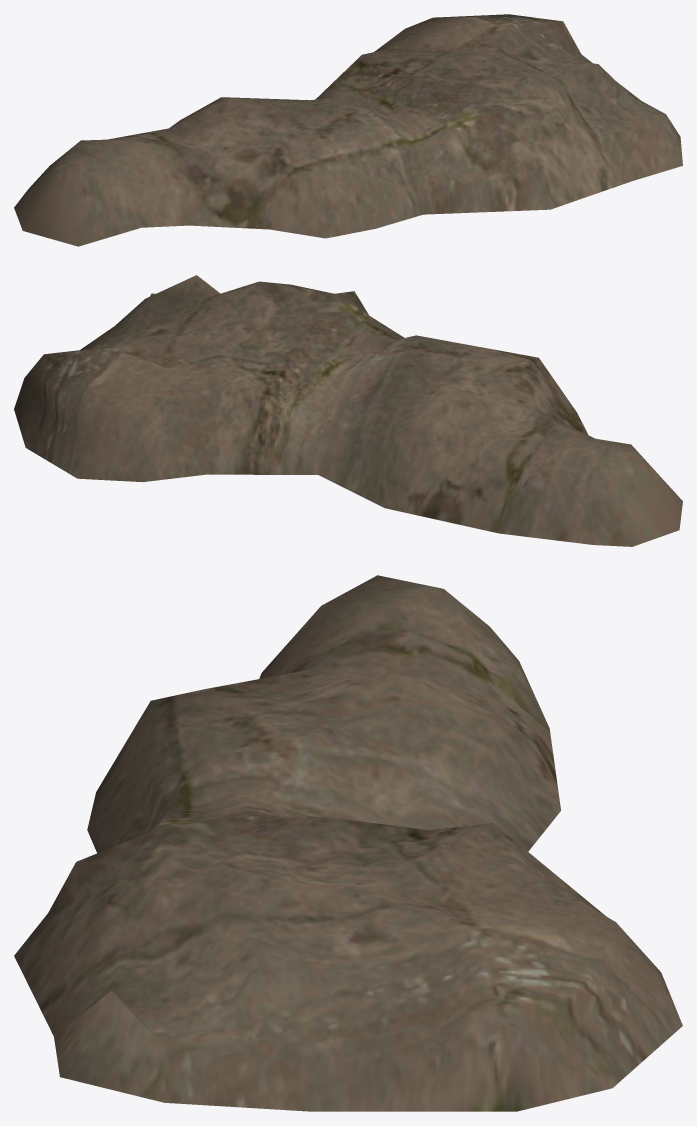
The model's file is Ground_patch_04.fbx.
The picture shows the model from 3 angles, top to bottom: view 1: azimuth 30°, elevation 25°; view 2: azimuth 150°, elevation 25°; view 3: azimuth 270°, elevation 25°; orthographic projection. The views are drawn at different scales.
Visible parts, largest first — view 1: Ground_Patch; view 2: Ground_Patch; view 3: Ground_Patch.
Boxes of the visible parts, left/top/right/bottom form: Ground_Patch: left=14, top=14, right=682, bottom=246; Ground_Patch: left=14, top=275, right=682, bottom=546; Ground_Patch: left=14, top=575, right=682, bottom=1111.
Size of the model in its own units: 3.27 by 0.4657 by 1.94.
1 material, 1 textured.
